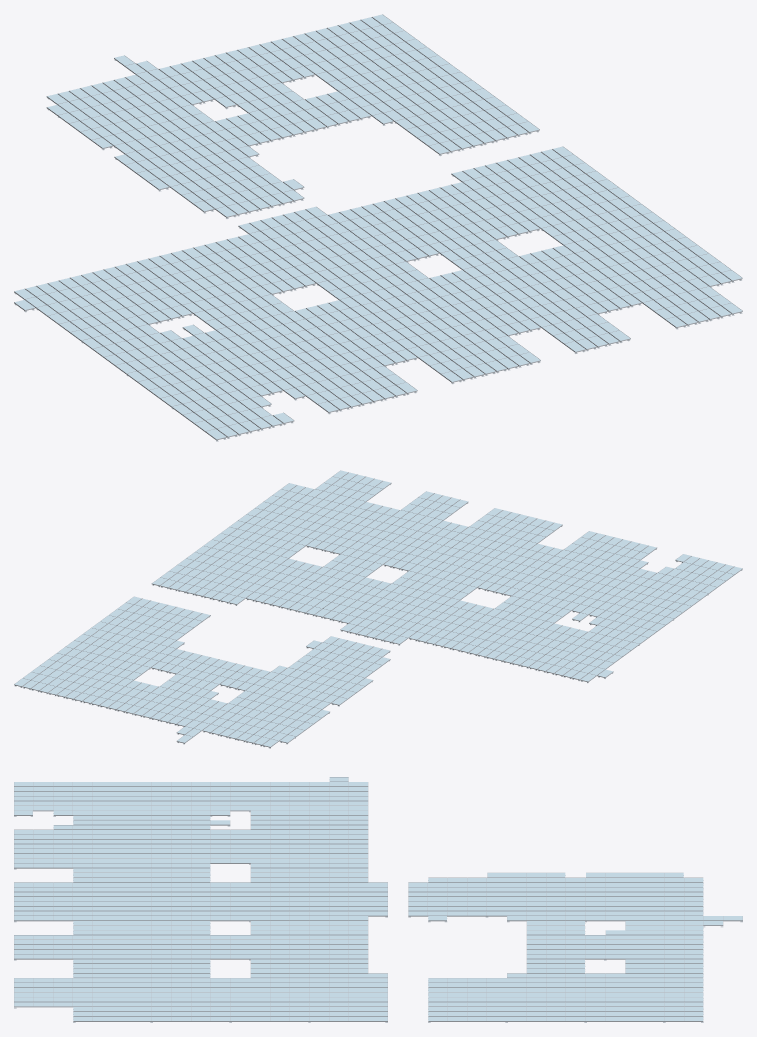
Rendered from SM_MPR3_SolarBank_00_0.fbx.
The picture shows the model from 3 angles, top to bottom: view 1: azimuth 30°, elevation 25°; view 2: azimuth 150°, elevation 25°; view 3: azimuth 270°, elevation 25°; orthographic projection. The views are drawn at different scales.
Parts seen in each view (by area): view 1: SM_MPR3_SolarBank_00_0; view 2: SM_MPR3_SolarBank_00_0; view 3: SM_MPR3_SolarBank_00_0.
Boxes of the visible parts, <box> form: SM_MPR3_SolarBank_00_0: <box>14,14,742,441</box>; SM_MPR3_SolarBank_00_0: <box>14,470,742,748</box>; SM_MPR3_SolarBank_00_0: <box>14,777,742,1022</box>.
Bounding box in the file's own units: 5705 × 7209 × 24.
